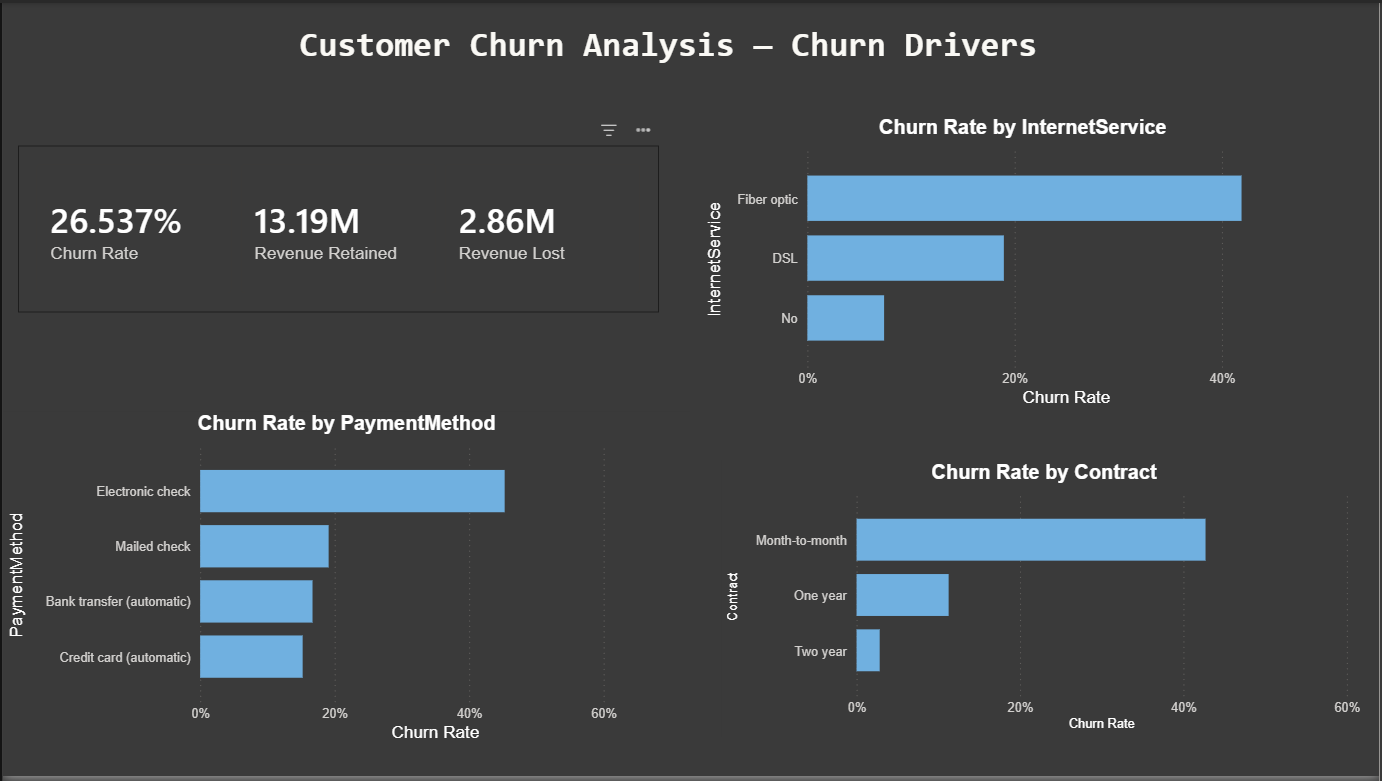

Layout of this report page (visuals, bound fields, positions):
{"tool":"powerbi","page":{"name":"Churn Drivers","canvas":[1280,720],"ordinal":3},"visuals":[{"type":"cardVisual","fields":{"Data":["Measures (2).Churn Rate","Measures (2).Revenue Retained","Measures (2).Revenue Lost"]},"box":[13.7,133.1,596.9,155.1],"z":0},{"type":"clusteredBarChart","fields":{"Category":["churn_data.Contract"],"Y":["Measures (2).Churn Rate"]},"box":[668.3,425.4,599.7,256.6],"z":1000},{"type":"clusteredBarChart","fields":{"Y":["Measures (2).Churn Rate"],"Category":["churn_data.PaymentMethod"]},"box":[0,380.1,639.5,311.5],"z":2000},{"type":"clusteredBarChart","fields":{"Y":["Measures (2).Churn Rate"],"Category":["churn_data.InternetService"]},"box":[649.1,104.3,599.7,275.8],"z":3000},{"type":"textbox","box":[271.3,14.7,737.4,50.3],"z":4000}]}

Visuals, with their boxes in screenshot pixels (x1, y1, x2, y2), scaled from the page's 1280x720 canvas onto the 1382x781 screenshot:
cardVisual - Measures (2).Churn Rate x Measures (2).Revenue Retained: 15/144/659/313
clusteredBarChart - churn_data.Contract x Measures (2).Churn Rate: 722/461/1369/740
clusteredBarChart - Measures (2).Churn Rate x churn_data.PaymentMethod: 0/412/690/750
clusteredBarChart - Measures (2).Churn Rate x churn_data.InternetService: 701/113/1348/412
textbox: 293/16/1089/71
